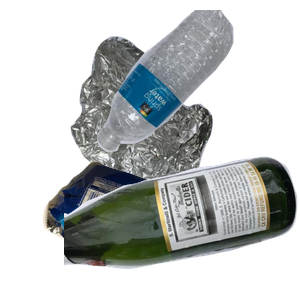glass: (64, 154, 300, 300)
metal: (68, 34, 300, 214)
plastic: (94, 10, 300, 154)
trash: (40, 158, 245, 300)
